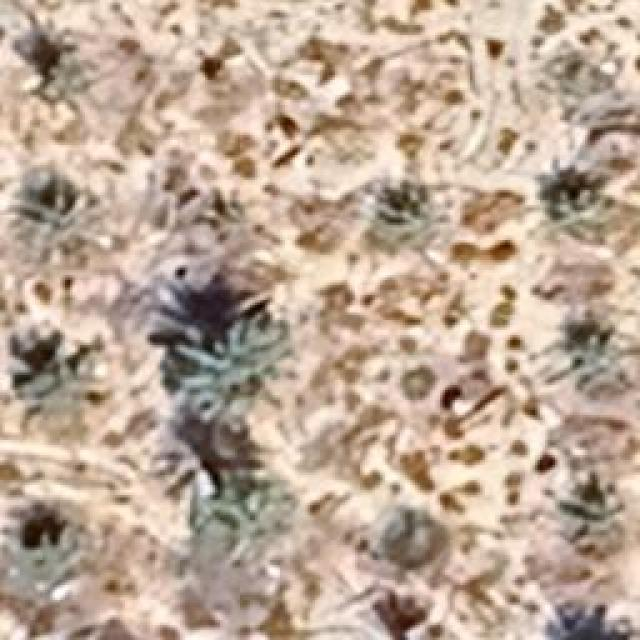PalmTree: (165, 290, 290, 410), (0, 508, 105, 598), (550, 316, 640, 406), (150, 415, 250, 495), (200, 484, 295, 568), (21, 20, 105, 106), (15, 332, 105, 412), (552, 480, 638, 560), (530, 152, 610, 238), (18, 176, 92, 262), (288, 38, 382, 88), (364, 504, 444, 558), (545, 595, 640, 640), (370, 202, 452, 250), (202, 191, 258, 239)
